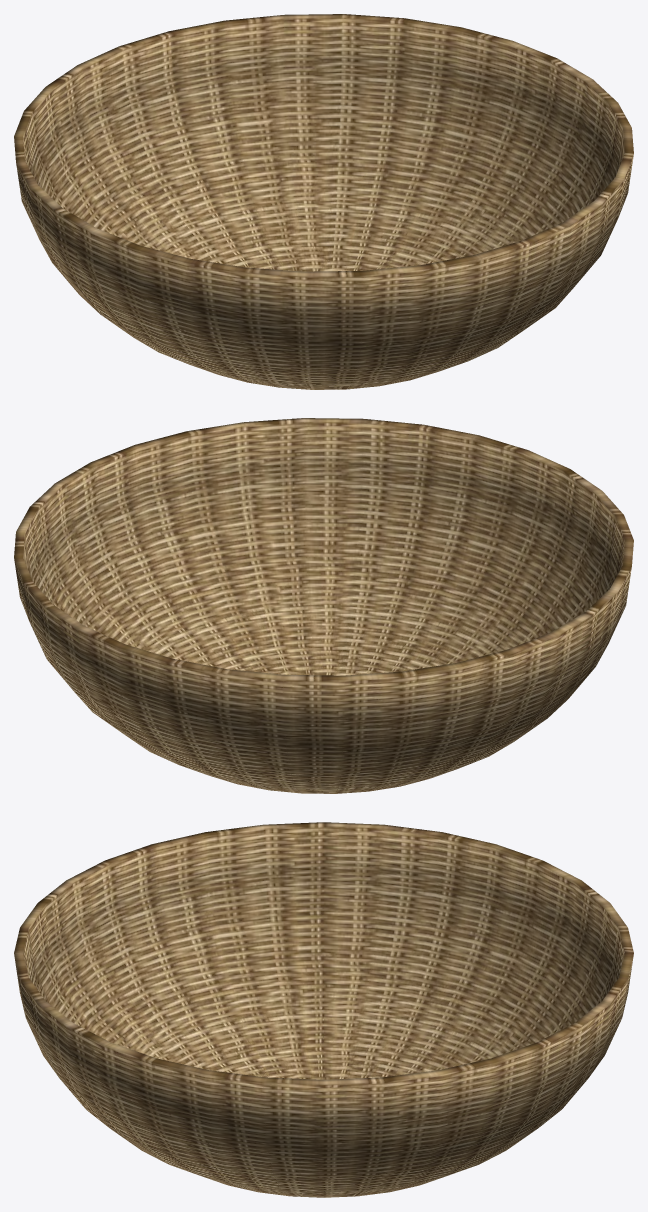
File: thung_tre.fbx
3 renders of one model, top to bottom at view 1: azimuth 30°, elevation 25°; view 2: azimuth 150°, elevation 25°; view 3: azimuth 270°, elevation 25°, orthographic.
Parts seen in each view (by area): view 1: thung_tre; view 2: thung_tre; view 3: thung_tre.
Boxes of the visible parts, box(x1,y1,x2,y2) form: thung_tre: box(14, 14, 633, 389); thung_tre: box(14, 418, 633, 793); thung_tre: box(14, 822, 633, 1197).
Bounding box in the file's own units: 103 × 37.85 × 103.
1 material, 1 textured.
